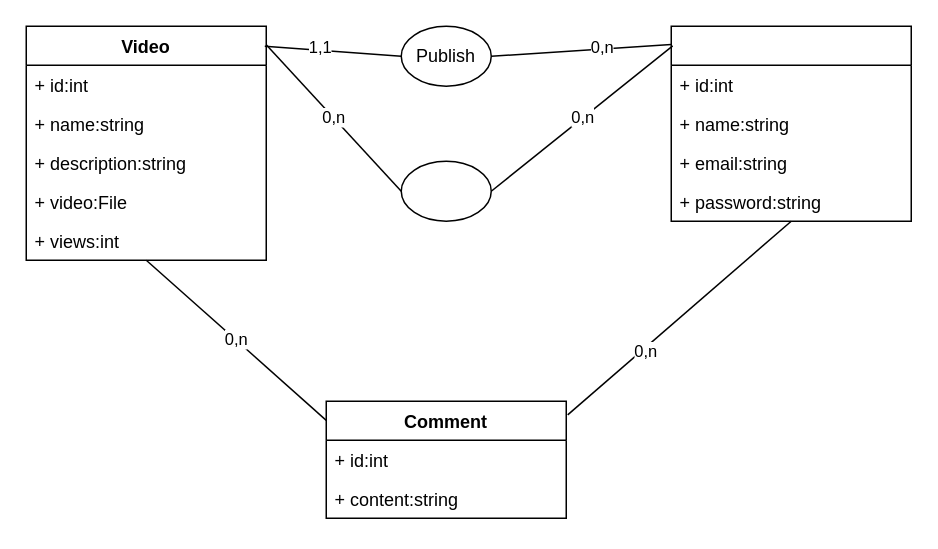
The diagram is 938 pixels wide and 549 high, and some of its shapes have lost their labels. The box of each missing label's shape, as (x1, y1, x2, y2) in pixels:
User: (670, 25, 911, 221)
Watch: (400, 160, 491, 221)
